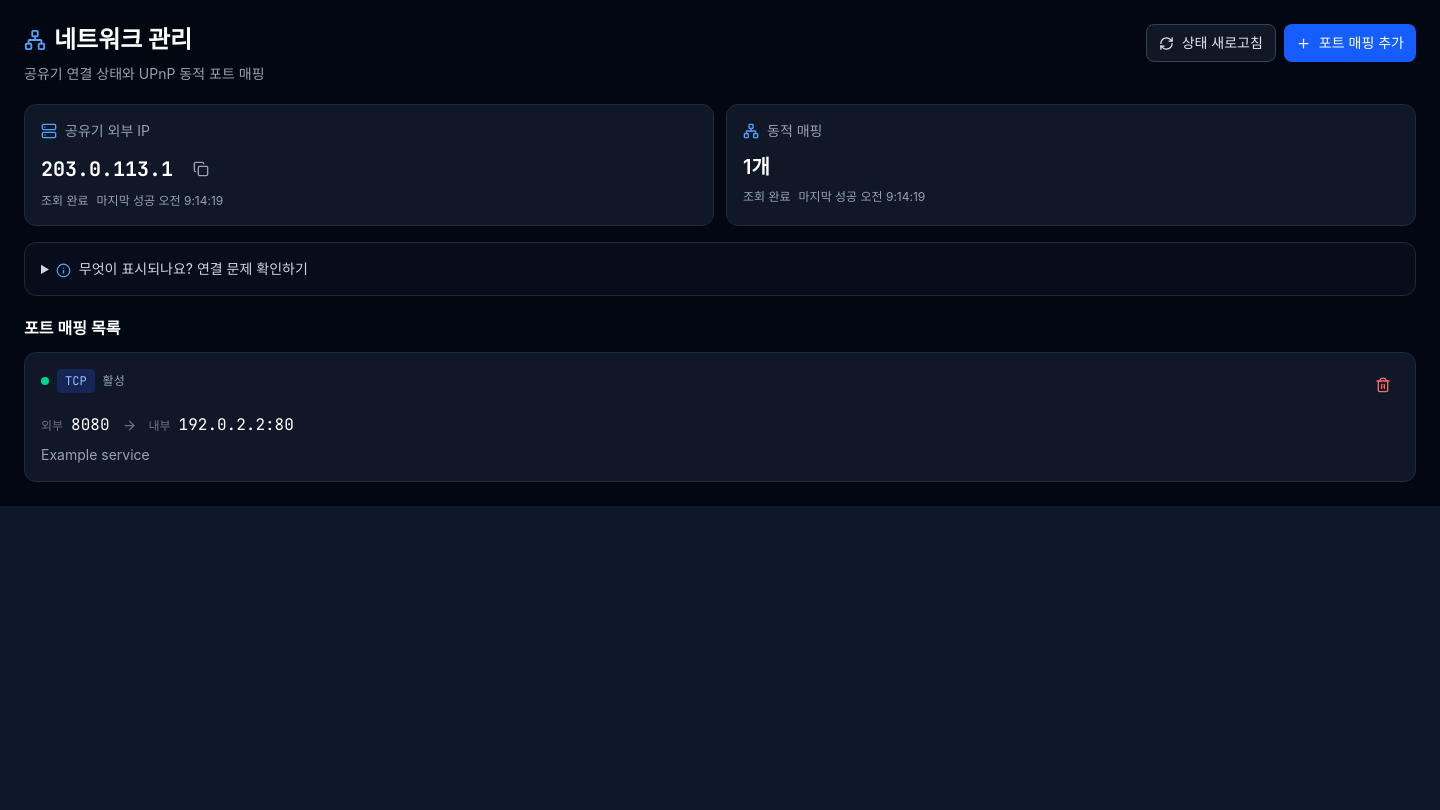
Test: 네트워크 상태와 복구 UX › 재조회 실패 시 기존 목록에 이전 결과 표시를 붙이고 변경을 잠금
Expected: the text "Example service" is shown, [41,446,150,463]
Click the button "상태 새로고침" at (1211, 43), box [1146,24,1276,62]
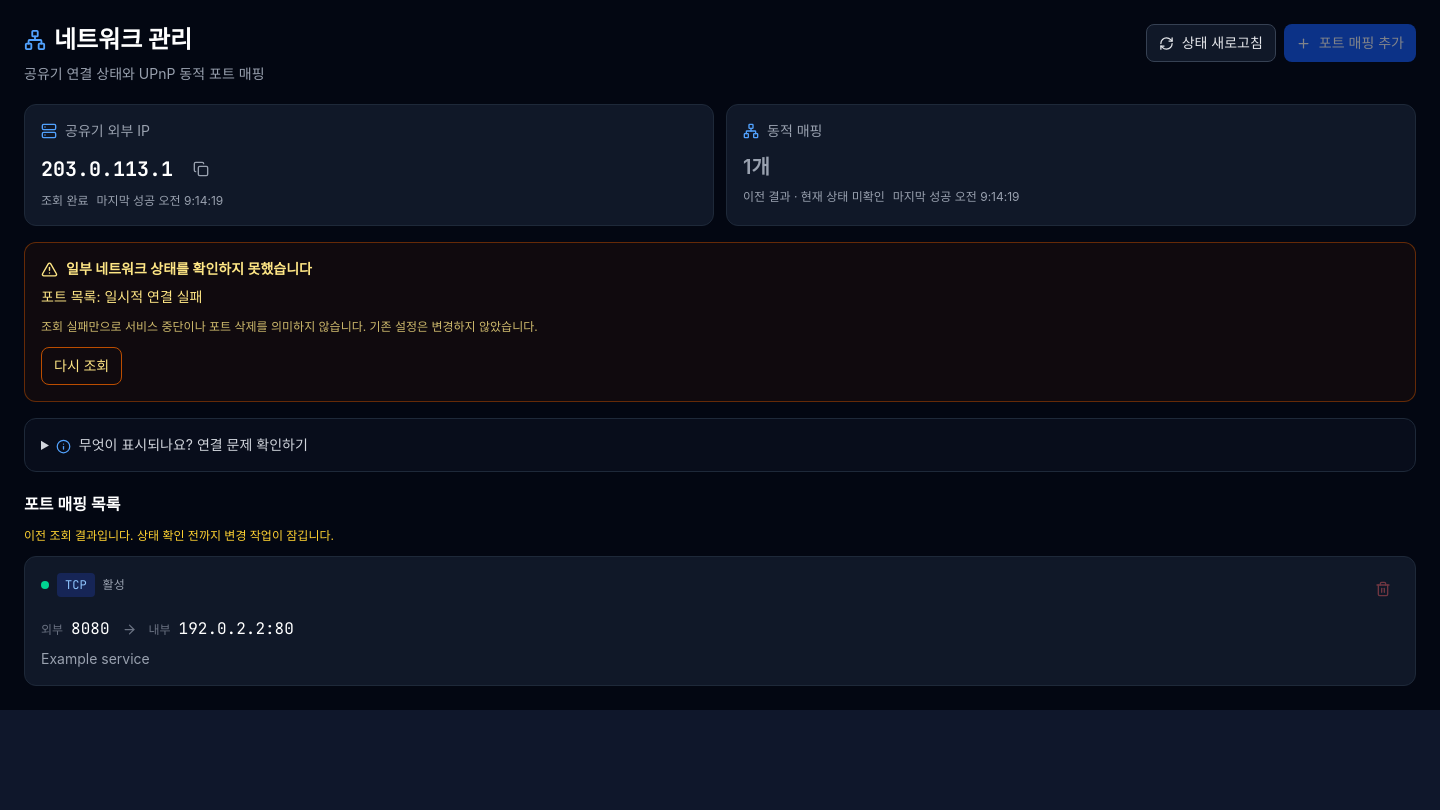
Expected: the message that starts with "일부 네트워크 상태를 확인하지 못했습니다" is shown, [24,242,1416,402]
Expected: the text "이전 조회 결과입니다. 상태 확인 전까지 변경 작업이 잠깁니다." is shown, [24,528,334,543]
Expected: the button named "TCP 8080 매핑 삭제" is disabled, [1367,573,1399,605]
